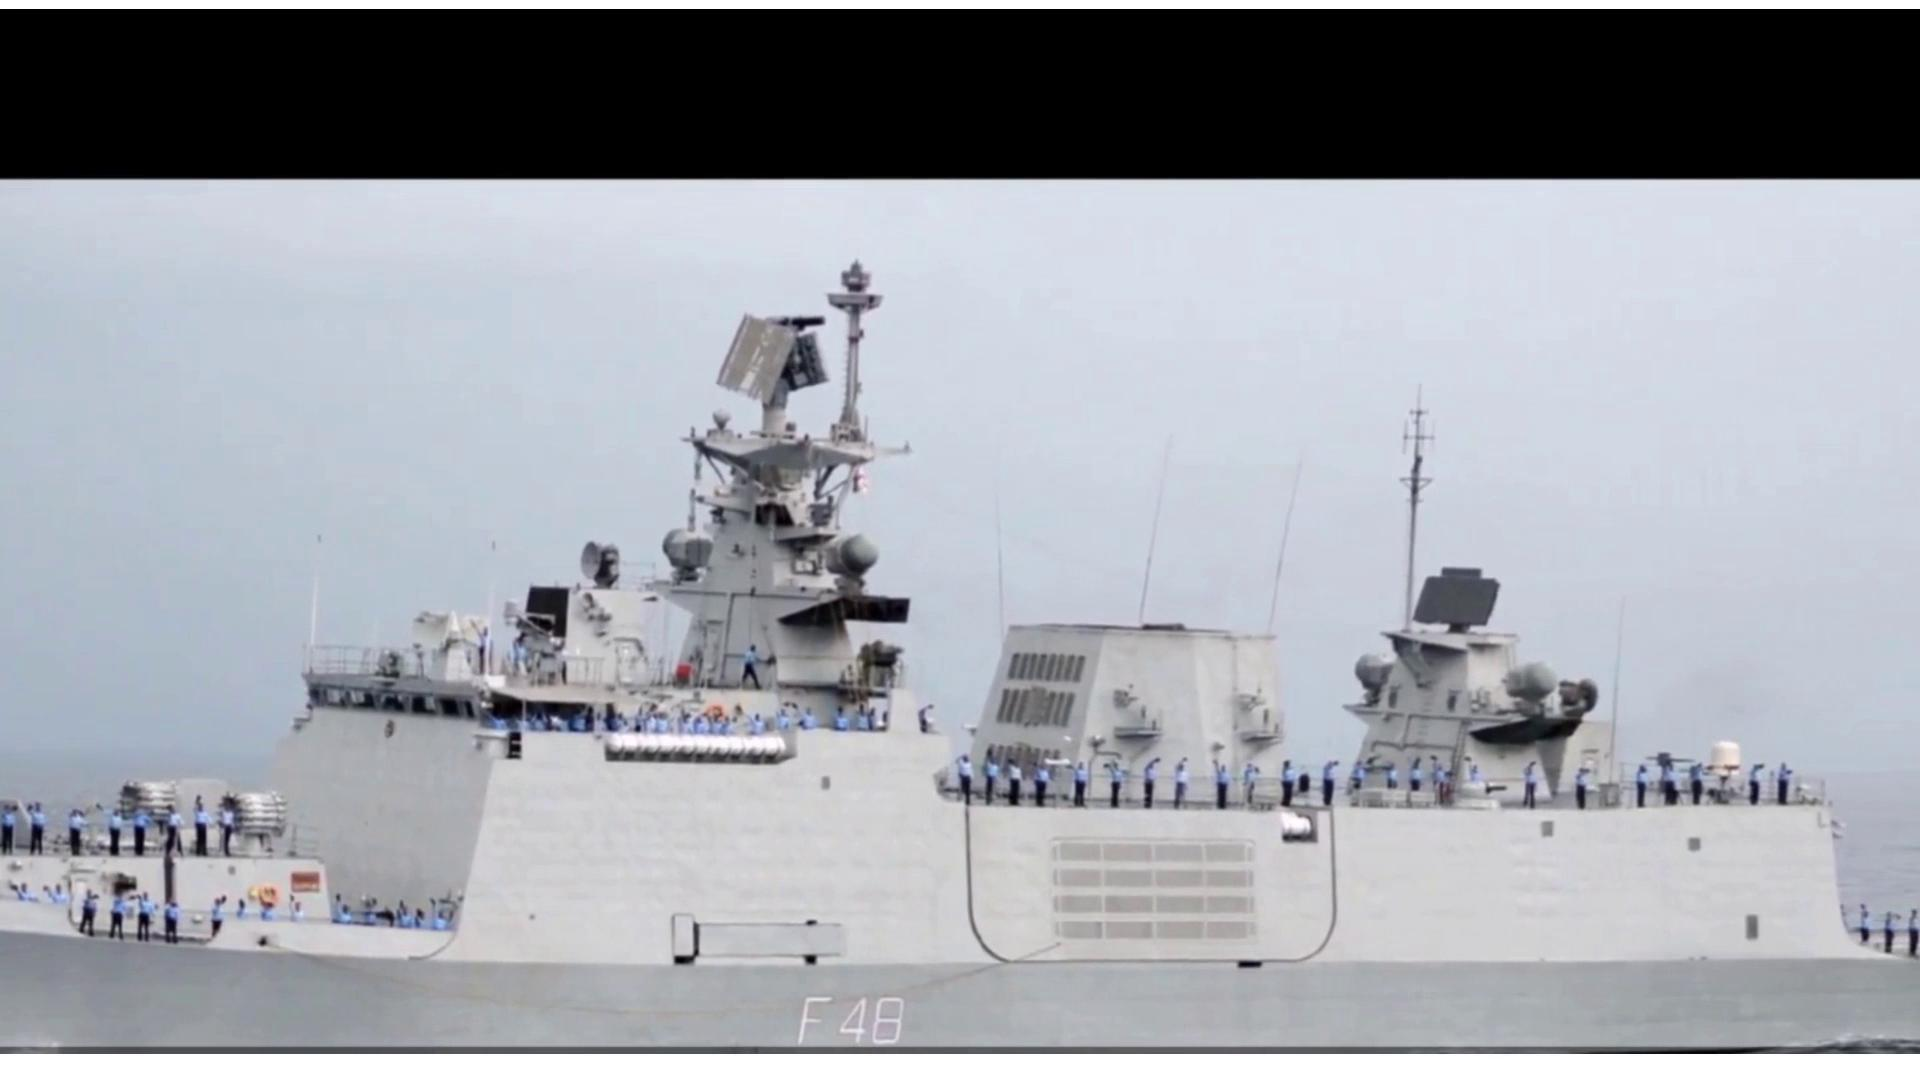OCR: (765, 982, 923, 1044)
